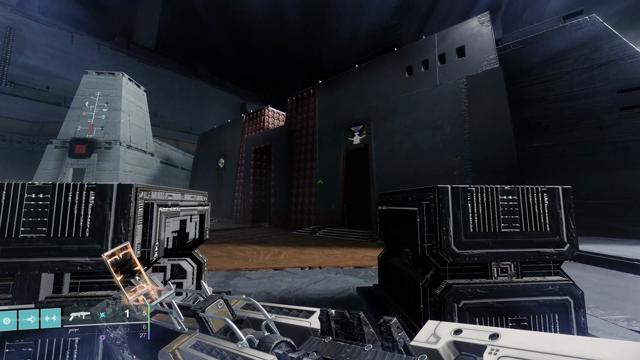brain: (217, 156, 226, 170)
drink: (346, 122, 368, 145)
stop: (71, 140, 91, 158)
